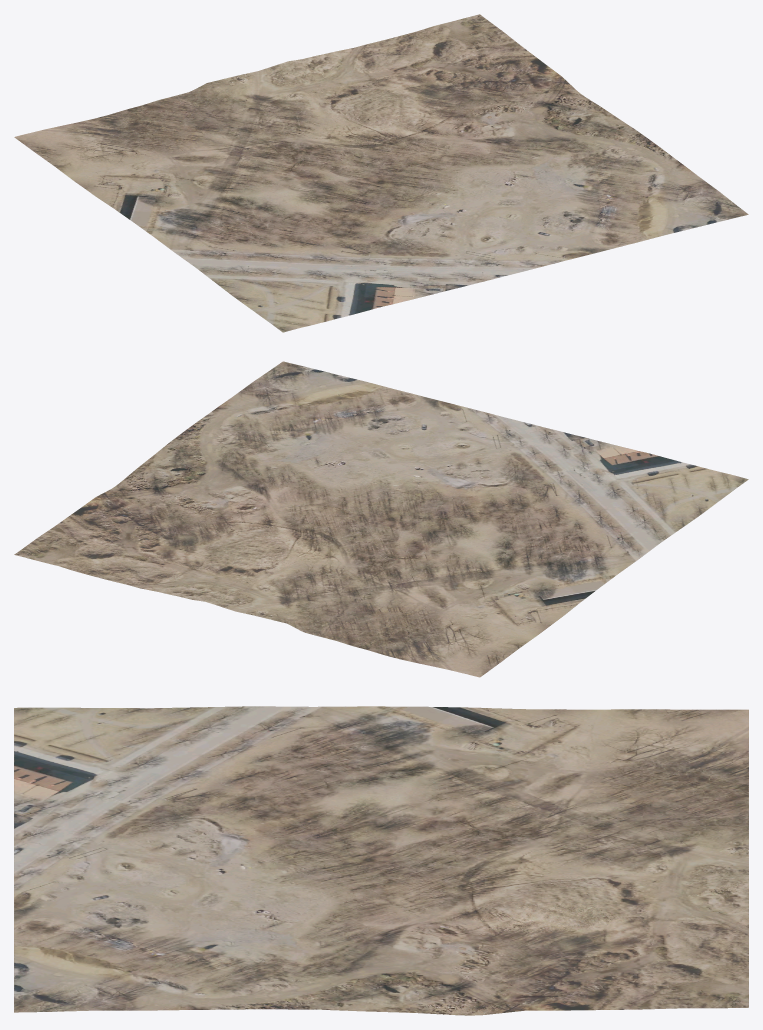
File: CM_Terrain_24489025_6819589.fbx
3 views of the same model, one above another, from view 1: azimuth 30°, elevation 25°; view 2: azimuth 150°, elevation 25°; view 3: azimuth 270°, elevation 25° (orthographic). The views are drawn at different scales.
Parts seen in each view (by area): view 1: CM_Terrain_24489025_6819589_LOD0; view 2: CM_Terrain_24489025_6819589_LOD0; view 3: CM_Terrain_24489025_6819589_LOD0.
Part boxes in pixels (x1=…): CM_Terrain_24489025_6819589_LOD0: x1=14, y1=14, x2=748, y2=332; CM_Terrain_24489025_6819589_LOD0: x1=14, y1=361, x2=748, y2=677; CM_Terrain_24489025_6819589_LOD0: x1=14, y1=706, x2=748, y2=1015.
Size of what is drawn, in the model's own units: 205 by 4.33 by 205.
